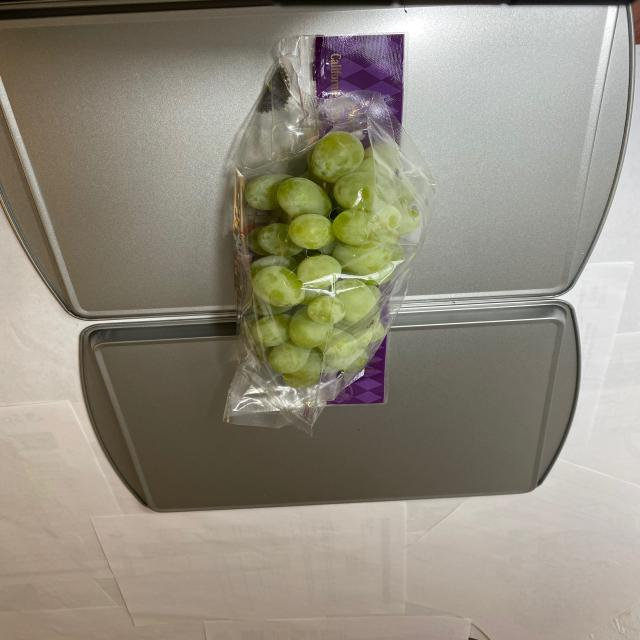grapes: (241, 127, 418, 400)
